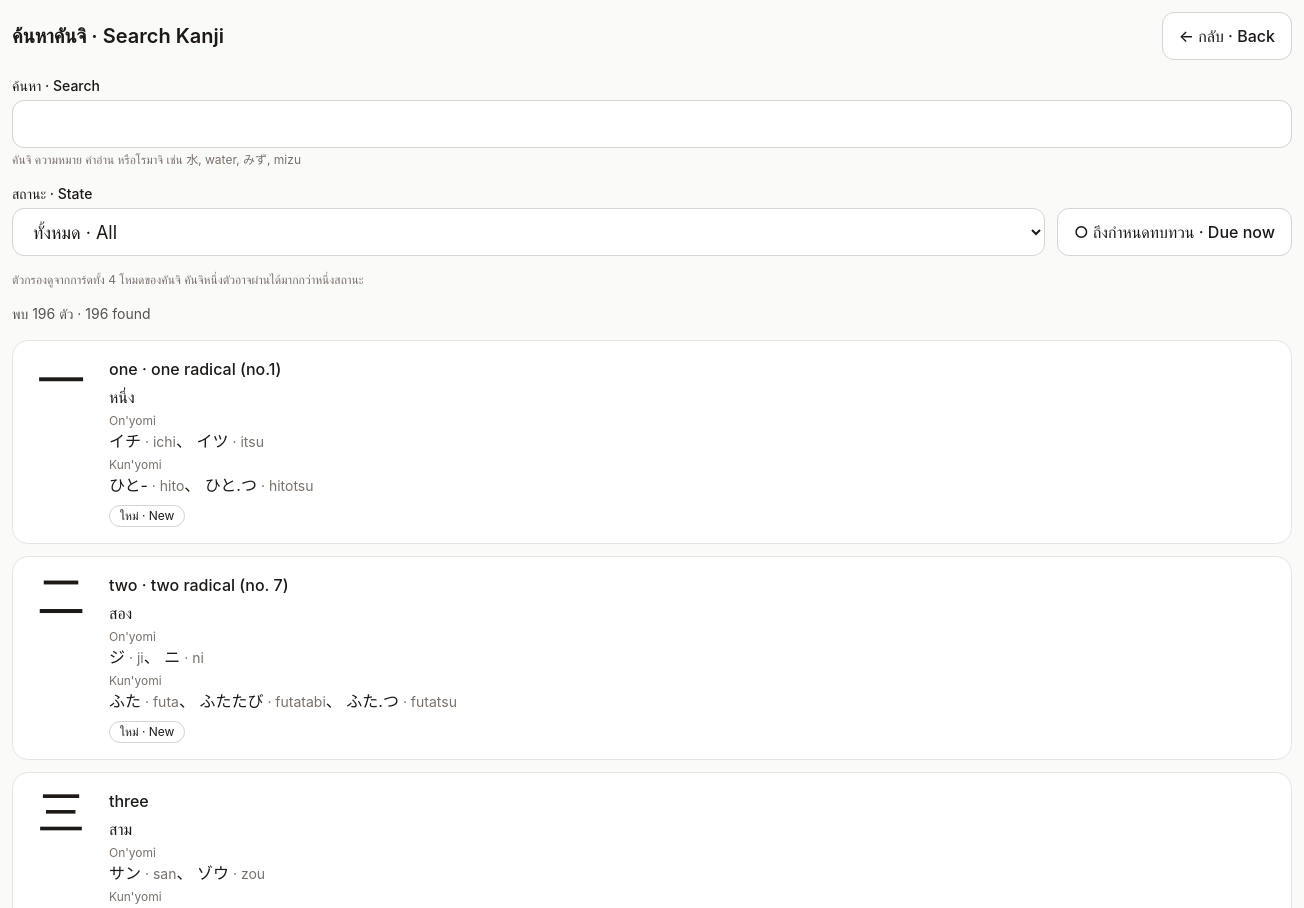
Test case: search screen (real repositories, real dataset) › shows readings exactly as stored, with romaji only when it exists, and never "null"
This screenshot has width=1304, height=908.
Expected: the text "พบ 196 ตัว · 196 found" is shown, [12,305,151,322]
Step 1. Type "十" into the search field labelled "ค้นหา · Search" → (652, 124), box [12,100,1292,148]
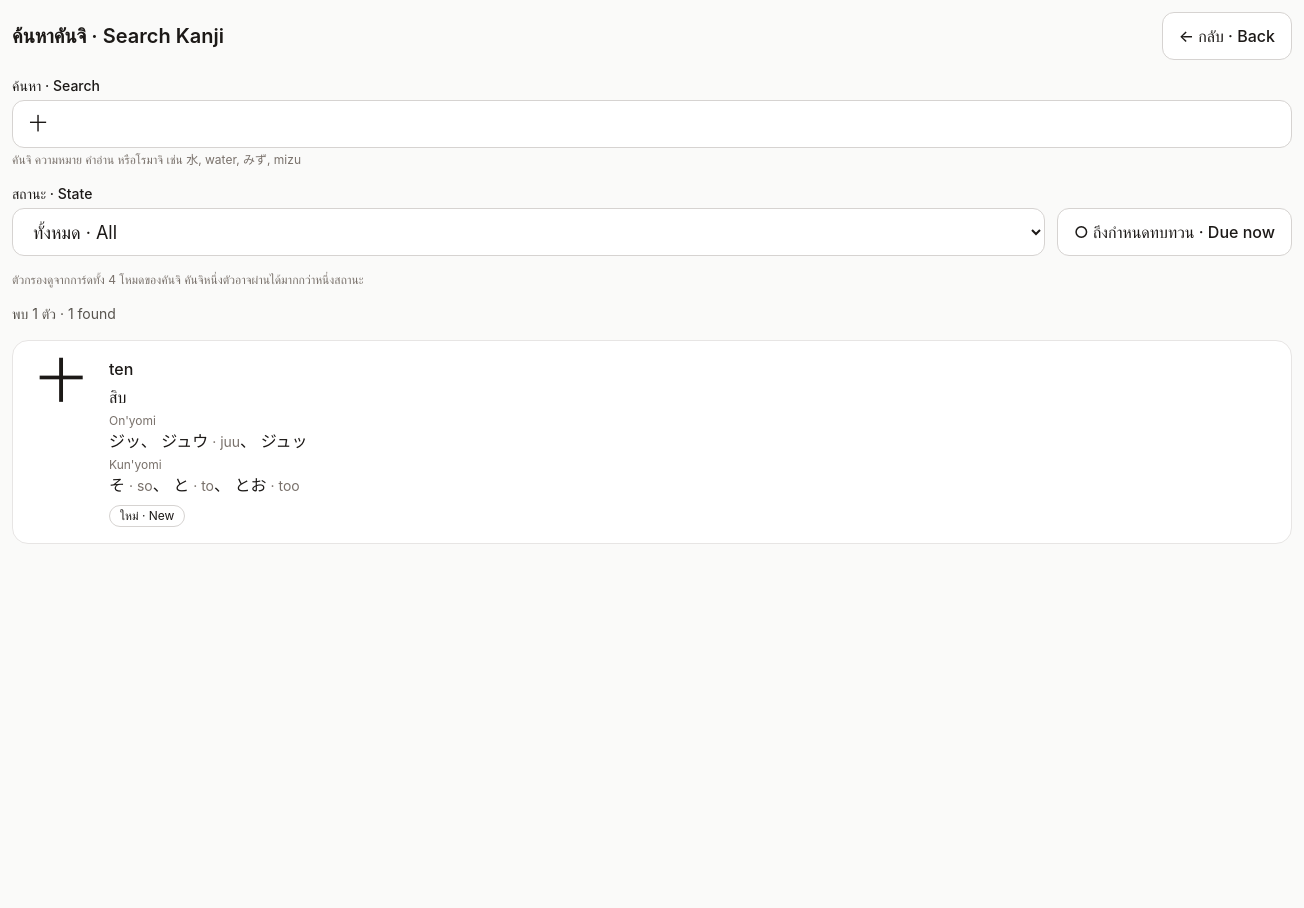
Expected: the list item shows "ジッ", [109,431,141,451]
Step 2. Replace the text in the search field labelled "ค้นหา · Search" with "ひとつ" → (652, 124), box [12,100,1292,148]
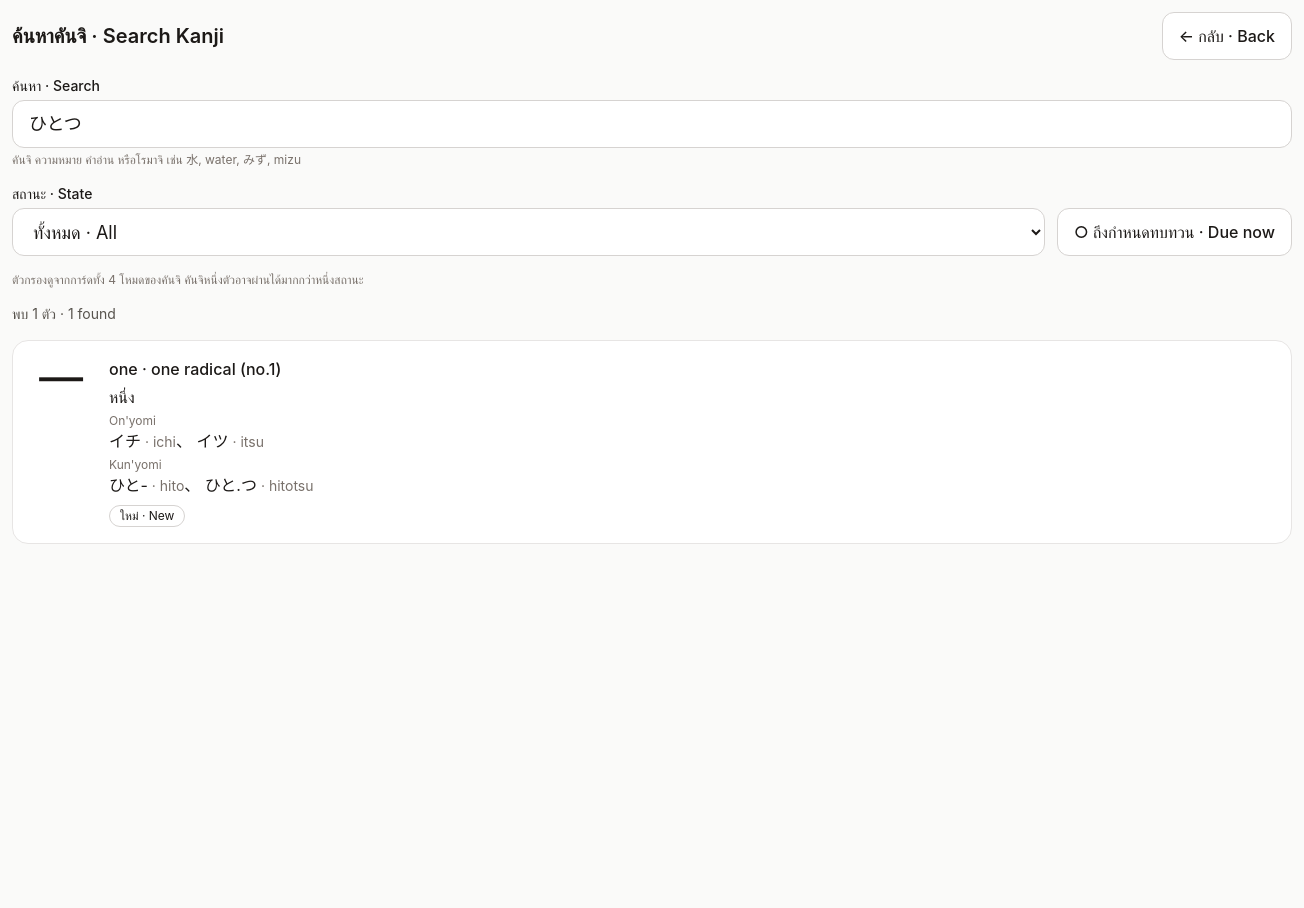
Now the text "、 ひと.つ · hitotsu" is shown, box [184,475,314,495]
